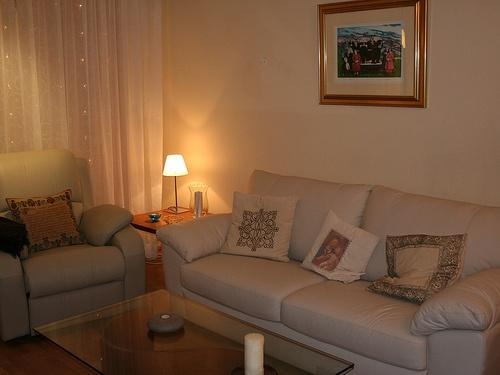chair: (1, 147, 149, 343)
sofa: (156, 167, 500, 375)
